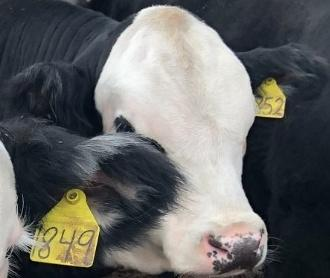muzzles: (189, 224, 278, 278)
